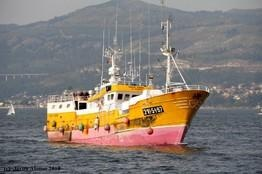otherboat: (42, 1, 208, 149)
